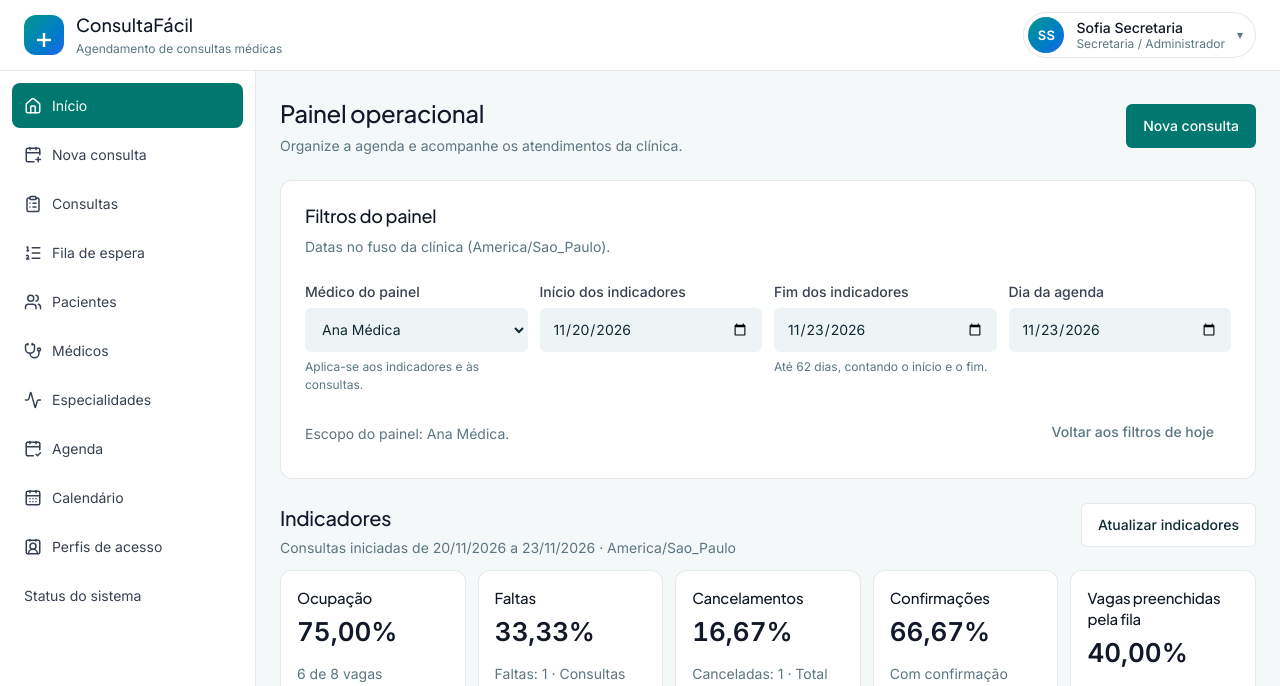
it: secretaria entra no agendamento existente e retorna sem perder os filtros ou iniciar uma reserva
This screenshot has width=1280, height=686.
Step 1. Click the link "Nova consulta" in the row of "Painel operacional" → click(1191, 126), box [1126,104,1256,148]
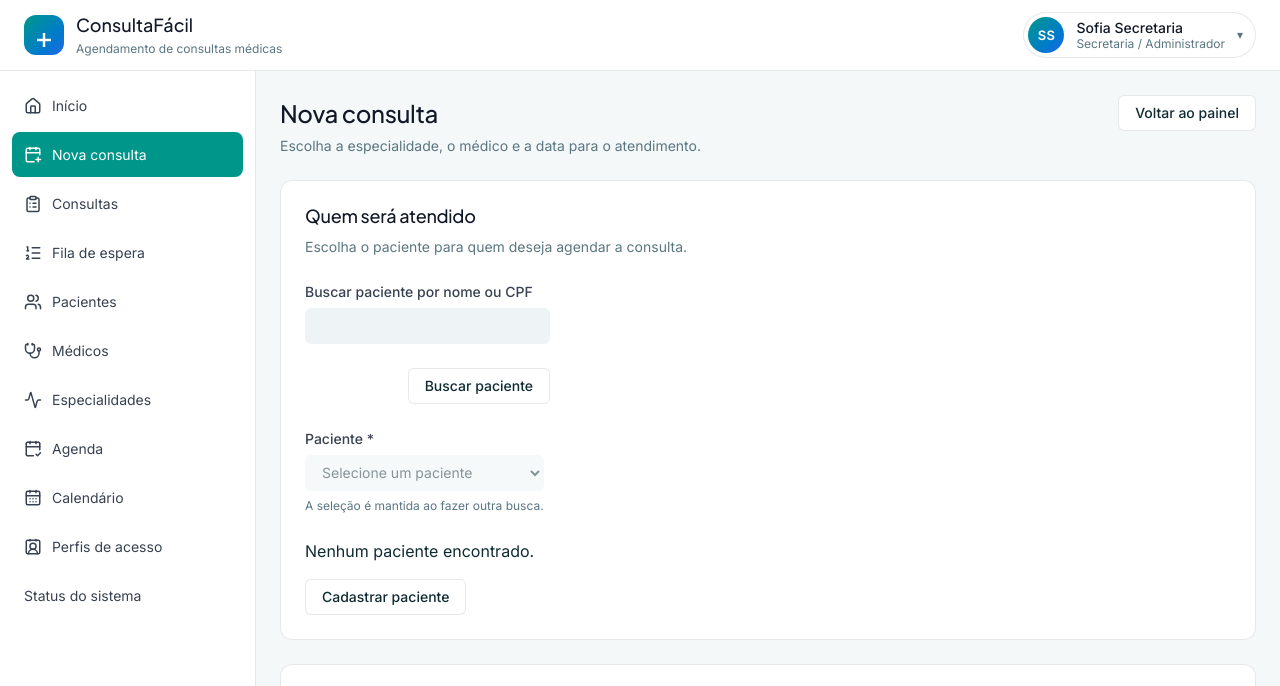
expect the heading "Nova consulta" is shown: met, box [280,98,438,128]
Step 2. Click the link "Voltar ao painel" → click(1187, 113), box [1118,95,1256,131]
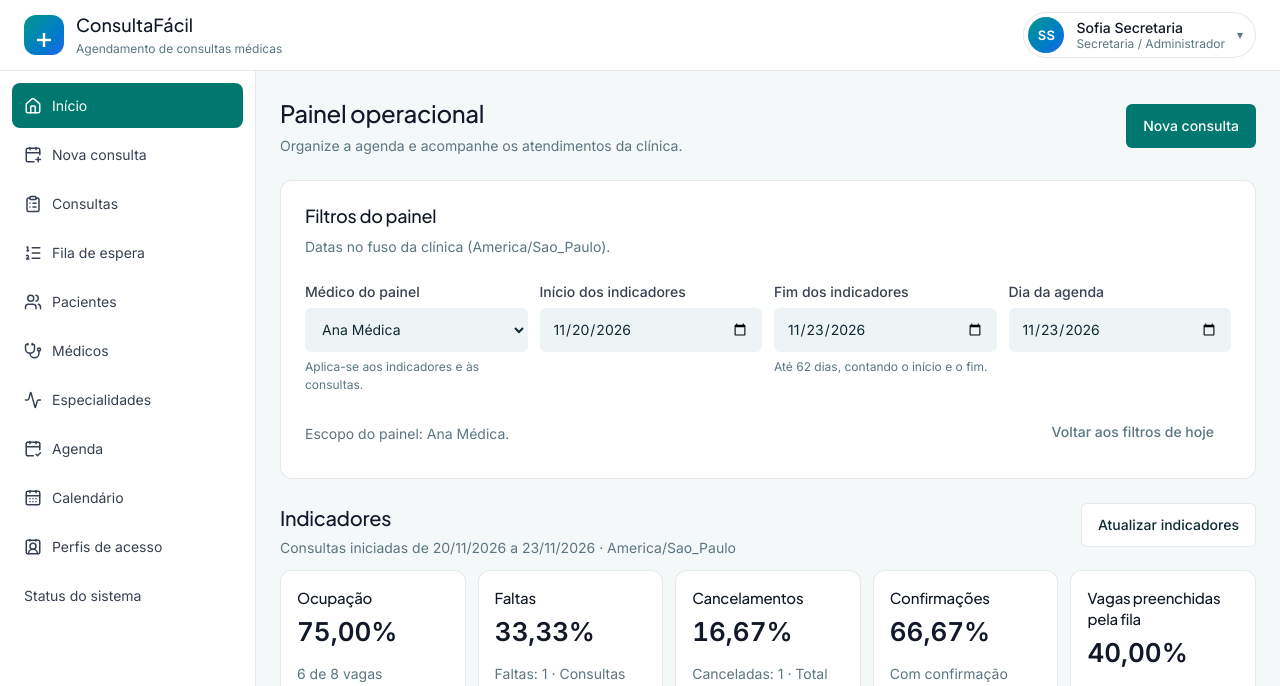
expect the dropdown labelled "Médico do painel" shows "Ana Médica": met, box [305,308,528,352]
expect the date field labelled "Início dos indicadores" holds "2026-11-20": met, box [540,308,762,352]
expect the date field labelled "Fim dos indicadores" holds "2026-11-23": met, box [774,308,996,352]
